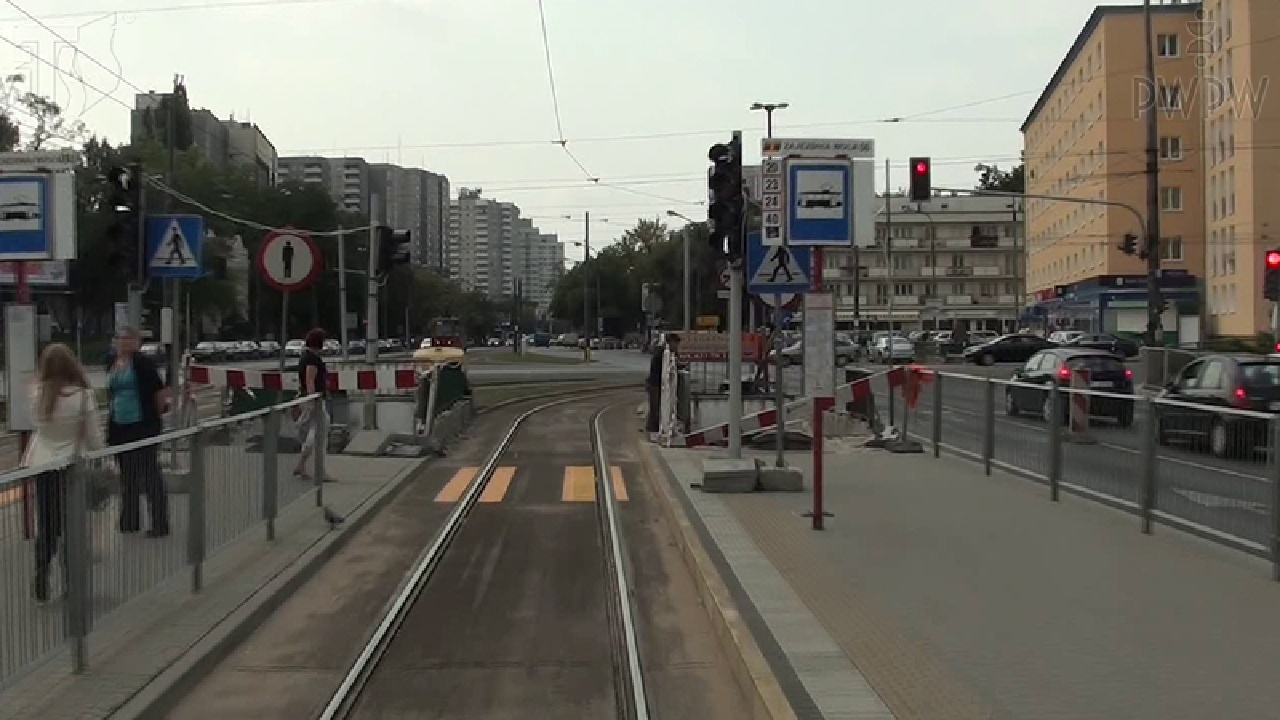B41: (257, 229, 328, 287)
D6: (744, 229, 818, 297), (141, 213, 209, 283)
